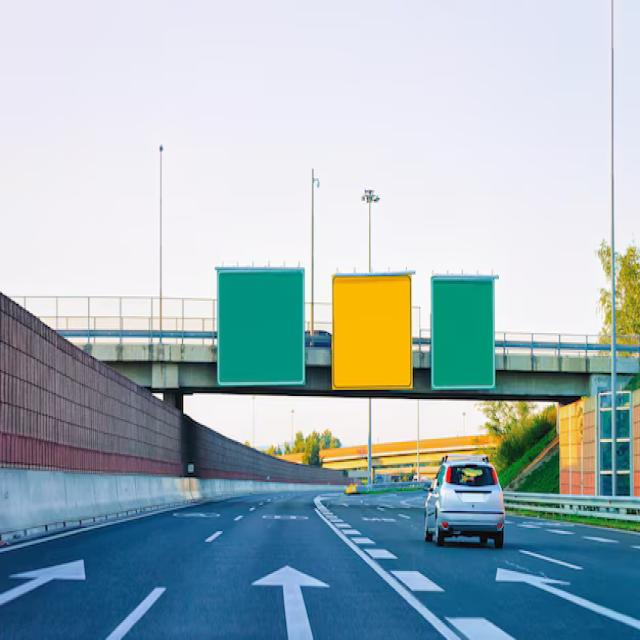Billboard_overhead: (213, 259, 317, 408), (333, 258, 421, 408), (428, 255, 508, 408)
Roadcorner: (5, 488, 208, 566)
Roadlane: (307, 488, 510, 638), (99, 488, 281, 638), (533, 515, 628, 563)
